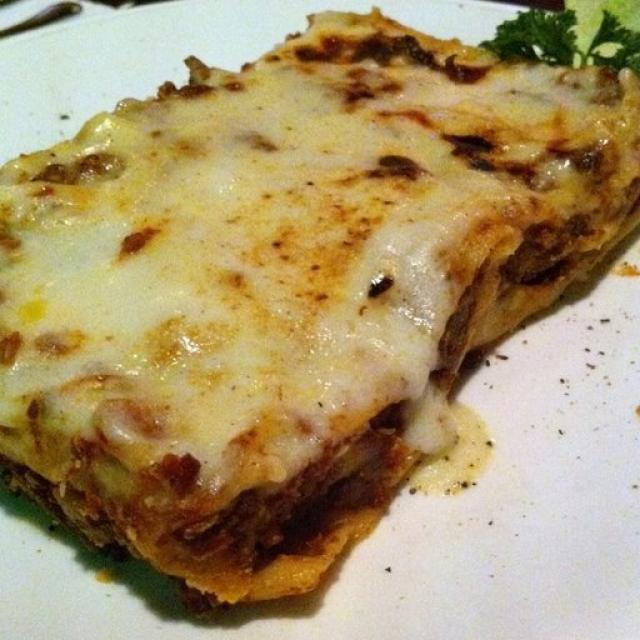Lasagna: (6, 12, 640, 598)
